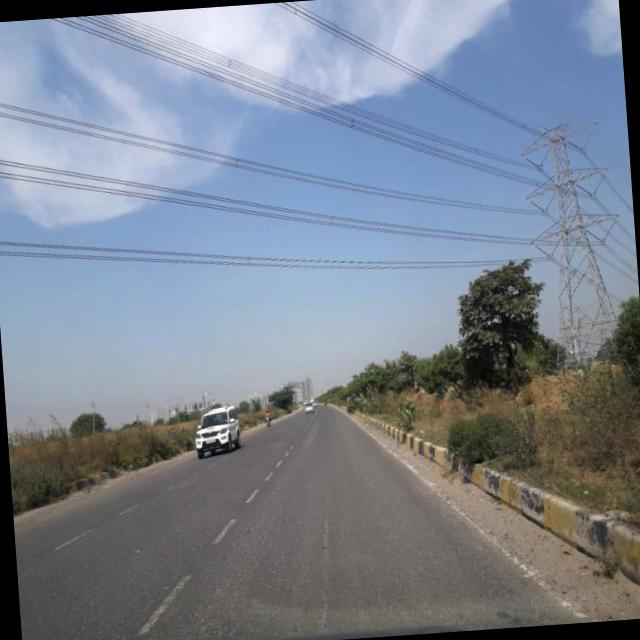pothole: (300, 483, 346, 638)
